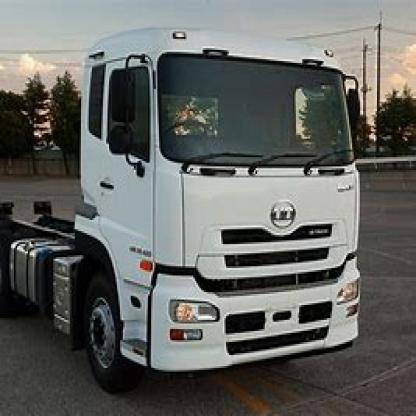dump_truck: (14, 17, 366, 396)
